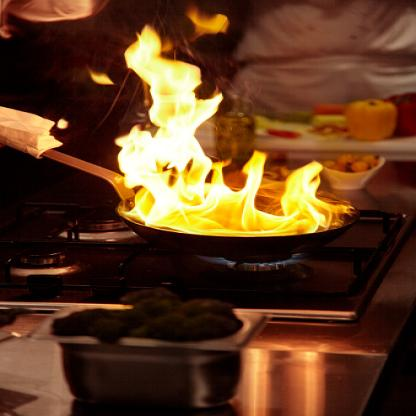fire: (116, 21, 362, 236)
